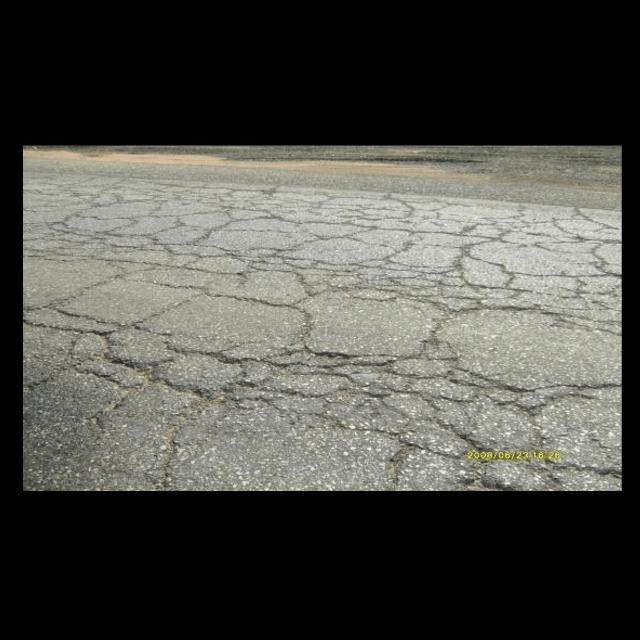retak_kulit_buaya: (18, 167, 622, 442)
